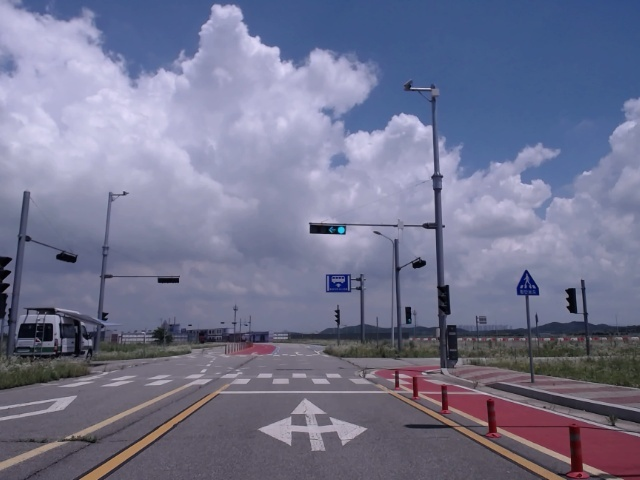all_green_4: (310, 223, 347, 236)
